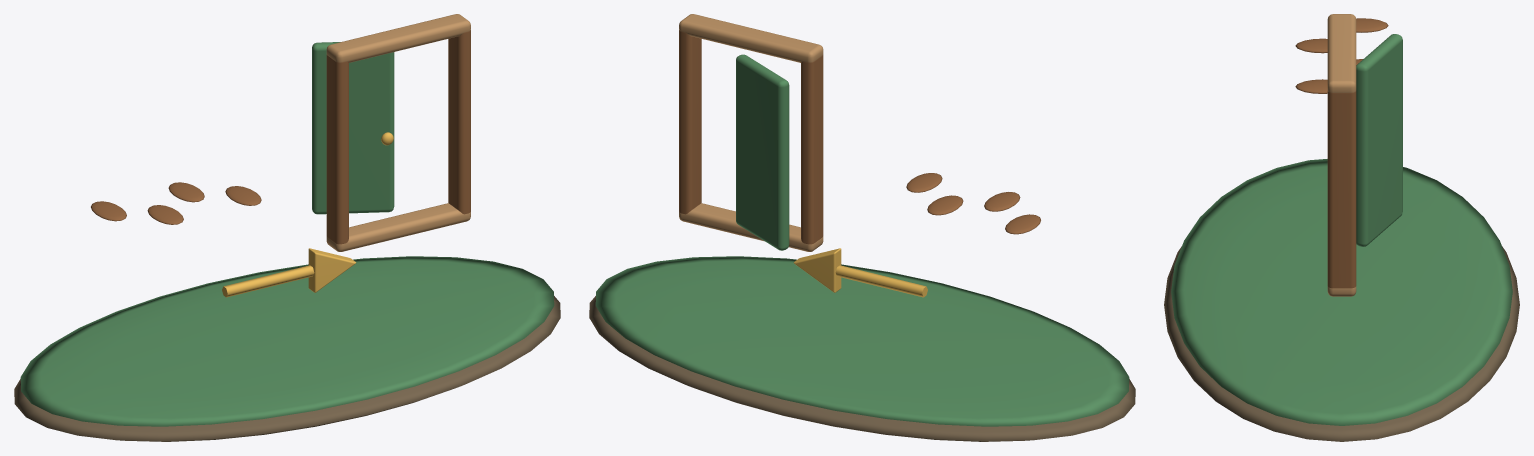
Rendered from complete-first-leave-open-door.glb.
The picture shows the model from 3 angles, left to right: view 1: azimuth 30°, elevation 25°; view 2: azimuth 150°, elevation 25°; view 3: azimuth 270°, elevation 25°; orthographic projection. The views are drawn at different scales.
Visible parts, largest first — view 1: complete-first-leave-open-door_surface_01, complete-first-leave-open-door_surface_02, complete-first-leave-open-door_surface_00, complete-first-leave-open-door_surface_03, complete-first-leave-open-door_surface_04; view 2: complete-first-leave-open-door_surface_01, complete-first-leave-open-door_surface_02, complete-first-leave-open-door_surface_00, complete-first-leave-open-door_surface_03, complete-first-leave-open-door_surface_04; view 3: complete-first-leave-open-door_surface_01, complete-first-leave-open-door_surface_00, complete-first-leave-open-door_surface_02, complete-first-leave-open-door_surface_03.
Part boxes in pixels (box(x1,y1,x2,y2)): complete-first-leave-open-door_surface_01: box(20, 42, 554, 426); complete-first-leave-open-door_surface_02: box(91, 30, 470, 244); complete-first-leave-open-door_surface_00: box(14, 296, 560, 441); complete-first-leave-open-door_surface_03: box(326, 14, 470, 251); complete-first-leave-open-door_surface_04: box(222, 132, 393, 297); complete-first-leave-open-door_surface_01: box(595, 54, 1129, 426); complete-first-leave-open-door_surface_02: box(679, 30, 1040, 244); complete-first-leave-open-door_surface_00: box(589, 296, 1135, 441); complete-first-leave-open-door_surface_03: box(679, 14, 823, 251); complete-first-leave-open-door_surface_04: box(793, 248, 927, 297); complete-first-leave-open-door_surface_01: box(1171, 34, 1512, 425); complete-first-leave-open-door_surface_00: box(1164, 246, 1519, 441); complete-first-leave-open-door_surface_02: box(1295, 18, 1388, 288); complete-first-leave-open-door_surface_03: box(1327, 14, 1356, 296).
Bounding box in the file's own units: 4.56 × 2.58 × 2.5.
